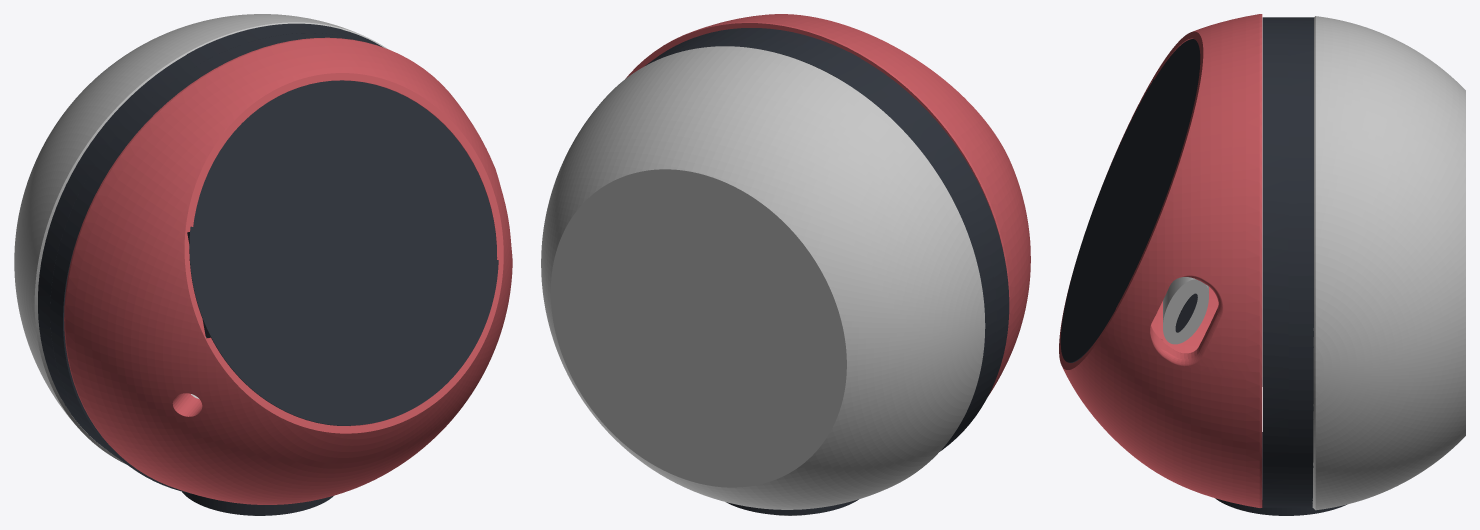
Rendered from poketama-poke-screen.glb.
3 views of the same model, side by side, from view 1: azimuth 30°, elevation 25°; view 2: azimuth 150°, elevation 25°; view 3: azimuth 270°, elevation 25° (orthographic).
Size of the model in its own units: 1.93 by 2 by 1.58.
